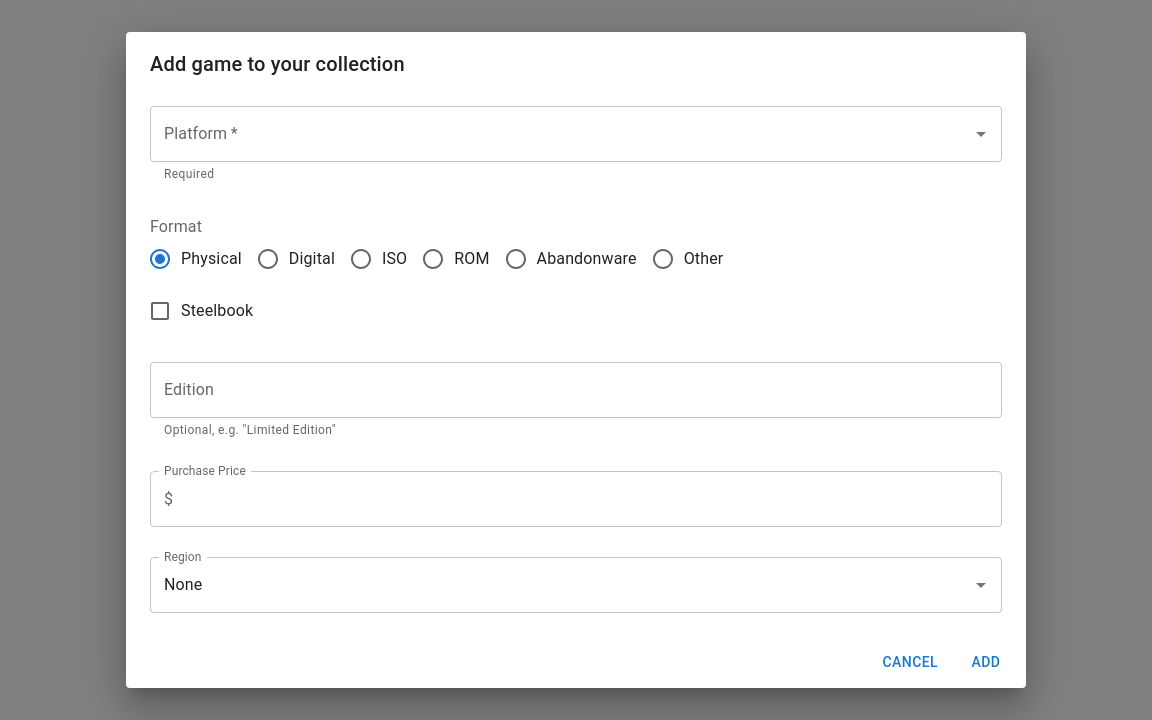
Test: LibraryItemDialog › shows the ROM upload field only for owned ROM, Abandonware and ISO copies
Expected: the text "ROM files" is not shown
Click the radio button labelled "ROM": {"x": 455, "y": 259} [421,247,490,271]
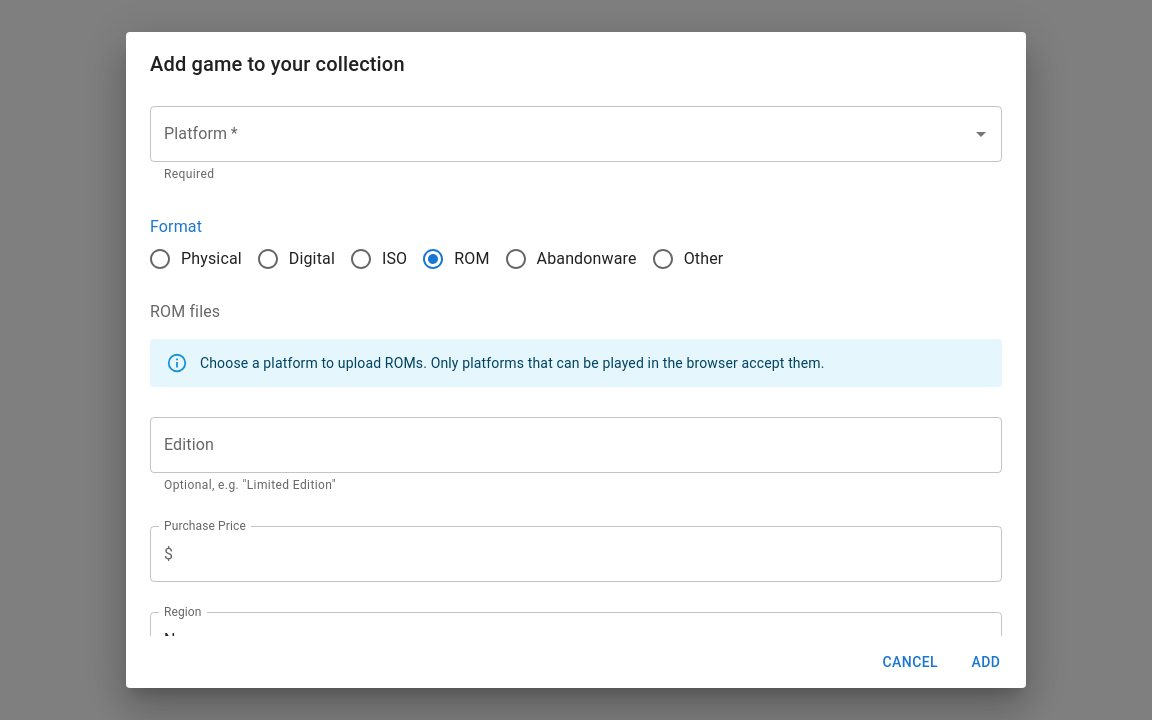
Expected: the text "ROM files" is shown, [150,302,220,321]
Click the radio button labelled "Abandonware": {"x": 570, "y": 259} [504,247,637,271]
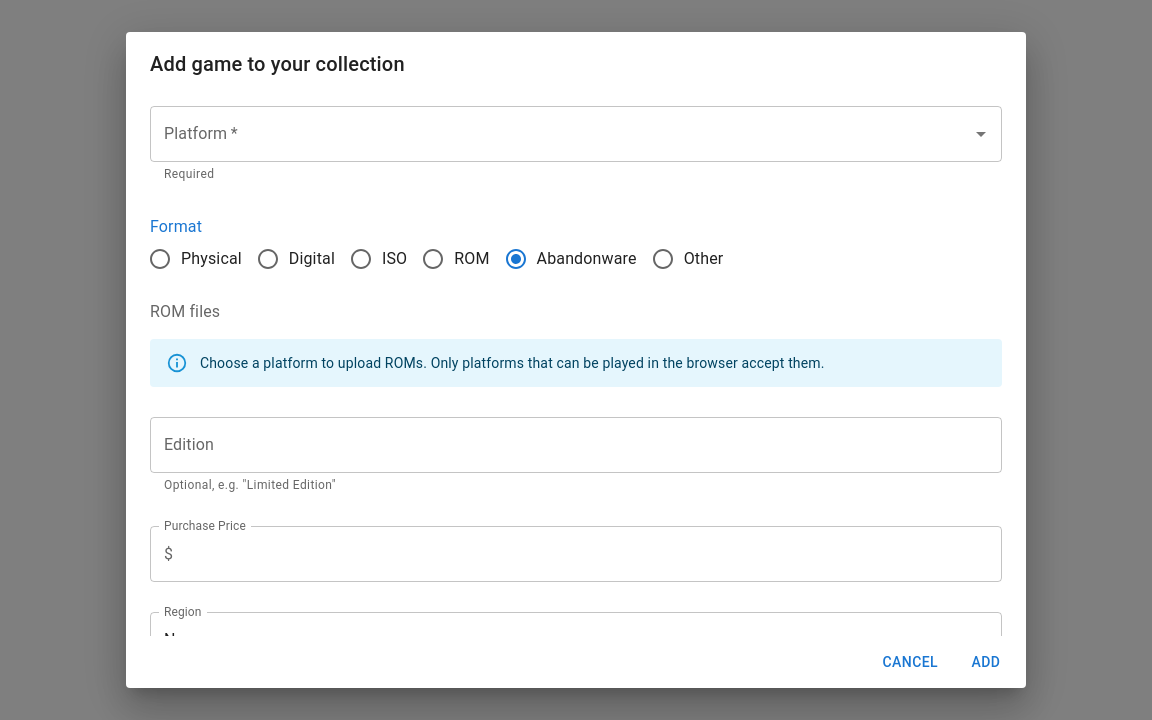
Expected: the text "ROM files" is shown, [150,302,220,321]
Click the radio button labelled "ISO": {"x": 361, "y": 259} [349,247,407,271]
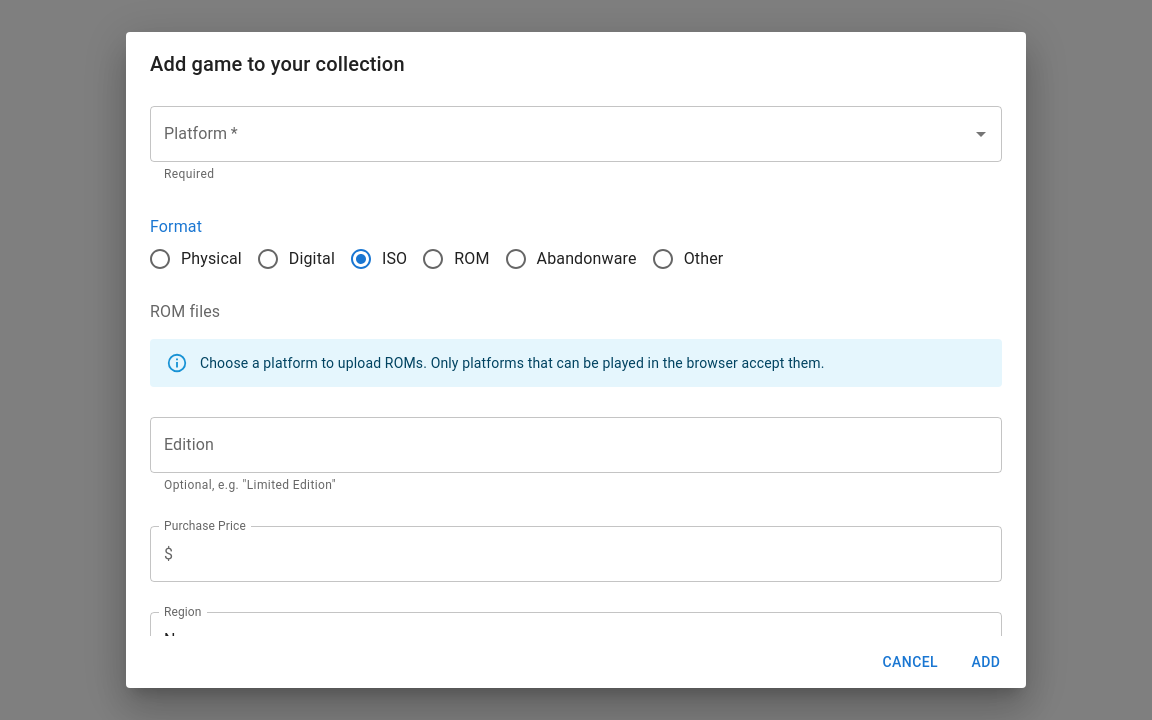
Expected: the text "ROM files" is shown, [150,302,220,321]
Click the radio button labelled "Digital": {"x": 295, "y": 259} [256,247,335,271]
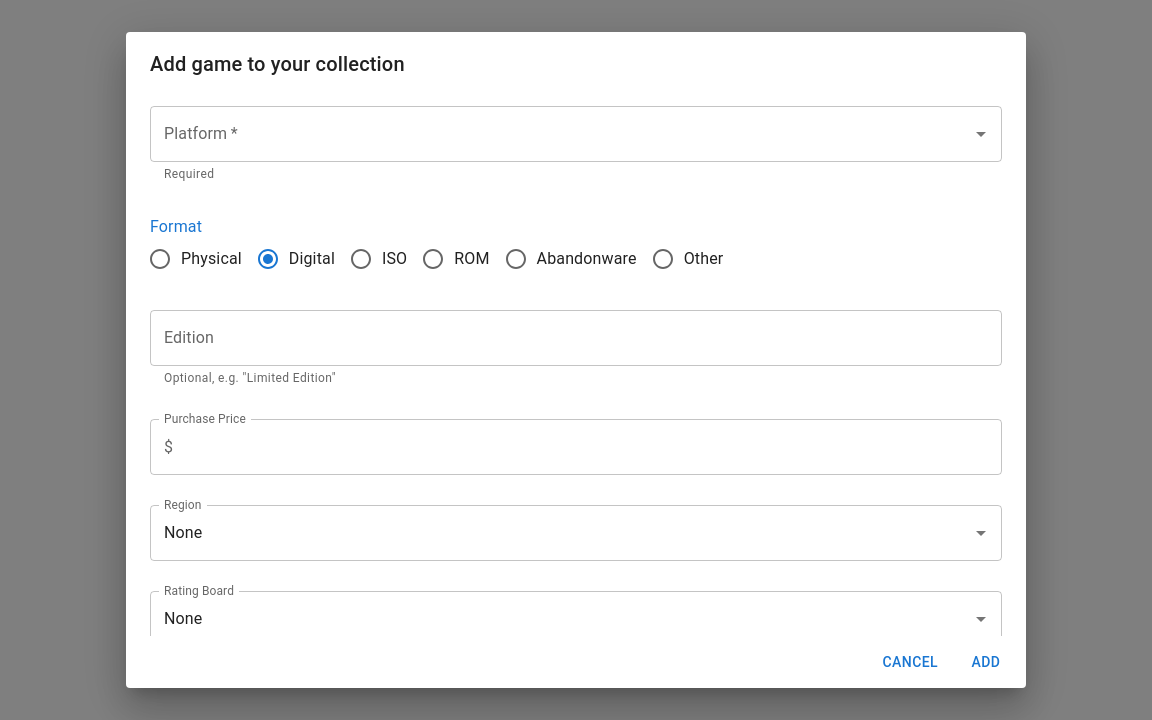
Expected: the text "ROM files" is gone
